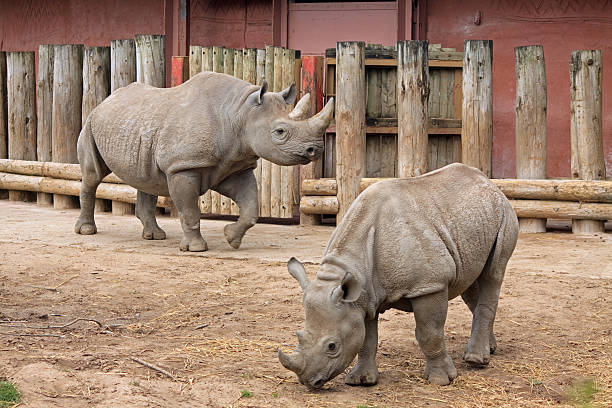rhino: (248, 249, 380, 407), (240, 77, 340, 173)
